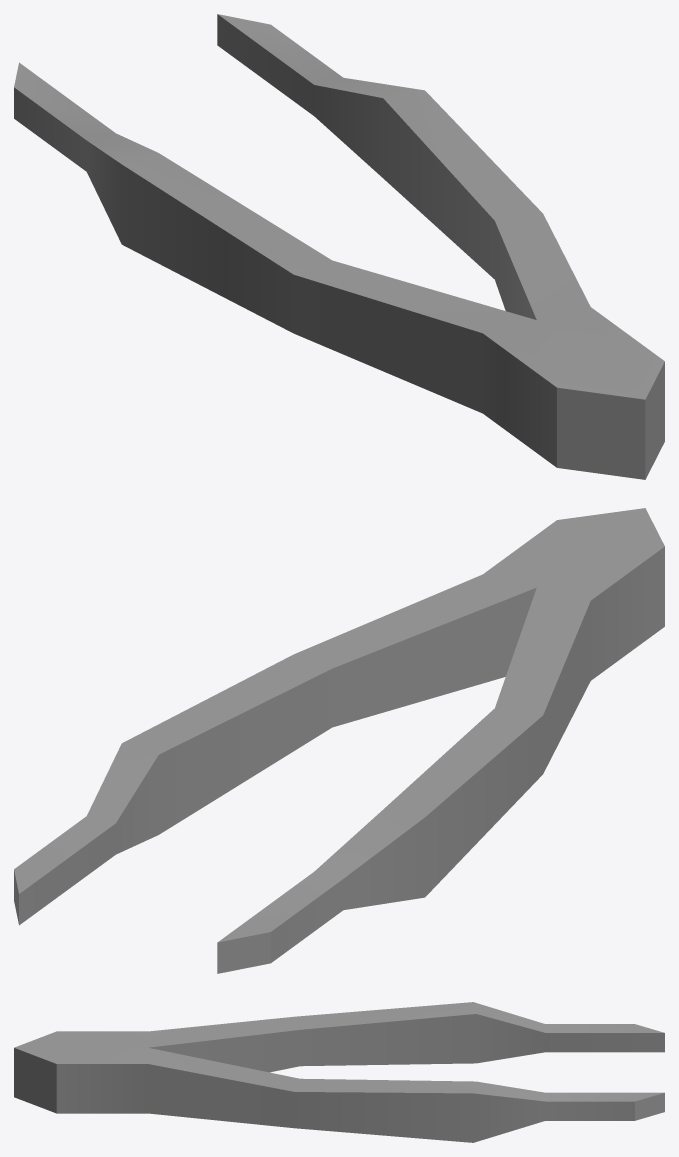
Rendered from Surgical Tool 02.fbx.
3 renders of one model, top to bottom at view 1: azimuth 30°, elevation 25°; view 2: azimuth 150°, elevation 25°; view 3: azimuth 270°, elevation 25°, orthographic. The views are drawn at different scales.
Visible parts, largest first — view 1: Surgical_Tool_02; view 2: Surgical_Tool_02; view 3: Surgical_Tool_02.
Boxes of the visible parts, x1,y1,x2,y2 form: Surgical_Tool_02: [14, 14, 664, 479]; Surgical_Tool_02: [14, 508, 664, 973]; Surgical_Tool_02: [14, 1002, 664, 1142].
Size of the model in its own units: 18.98 by 4.8 by 57.17.
